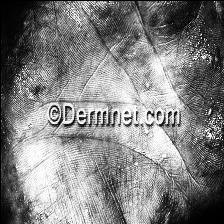Non-Cancerous Skin Condition: (0, 50, 224, 224), (23, 0, 223, 98)
